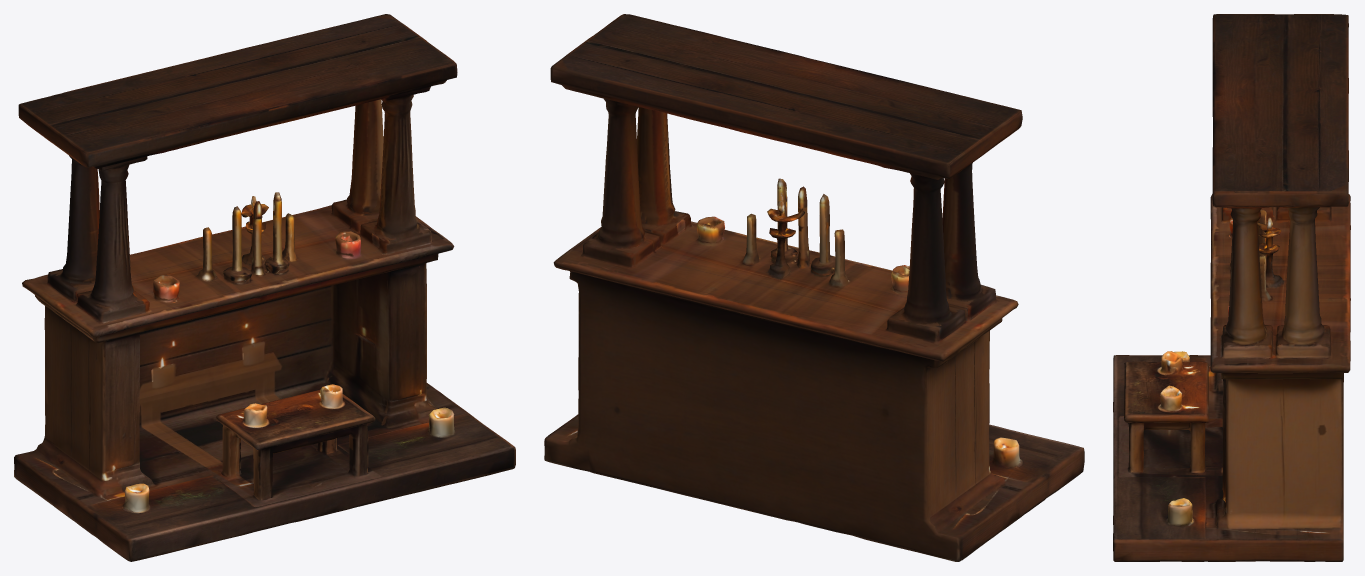
The model's file is tavern_altar.glb.
3 views of the same model, side by side, from view 1: azimuth 30°, elevation 25°; view 2: azimuth 150°, elevation 25°; view 3: azimuth 270°, elevation 25° (orthographic). The views are drawn at different scales.
Parts seen in each view (by area): view 1: Mesh1.0; view 2: Mesh1.0; view 3: Mesh1.0.
Boxes of the visible parts, bbox=[...] form: Mesh1.0: bbox=[14, 14, 515, 561]; Mesh1.0: bbox=[544, 14, 1084, 561]; Mesh1.0: bbox=[1113, 14, 1350, 561].
Bounding box in the file's own units: 2.02 × 1.85 × 1.09.
Materials: 1 (1 with a texture image).
